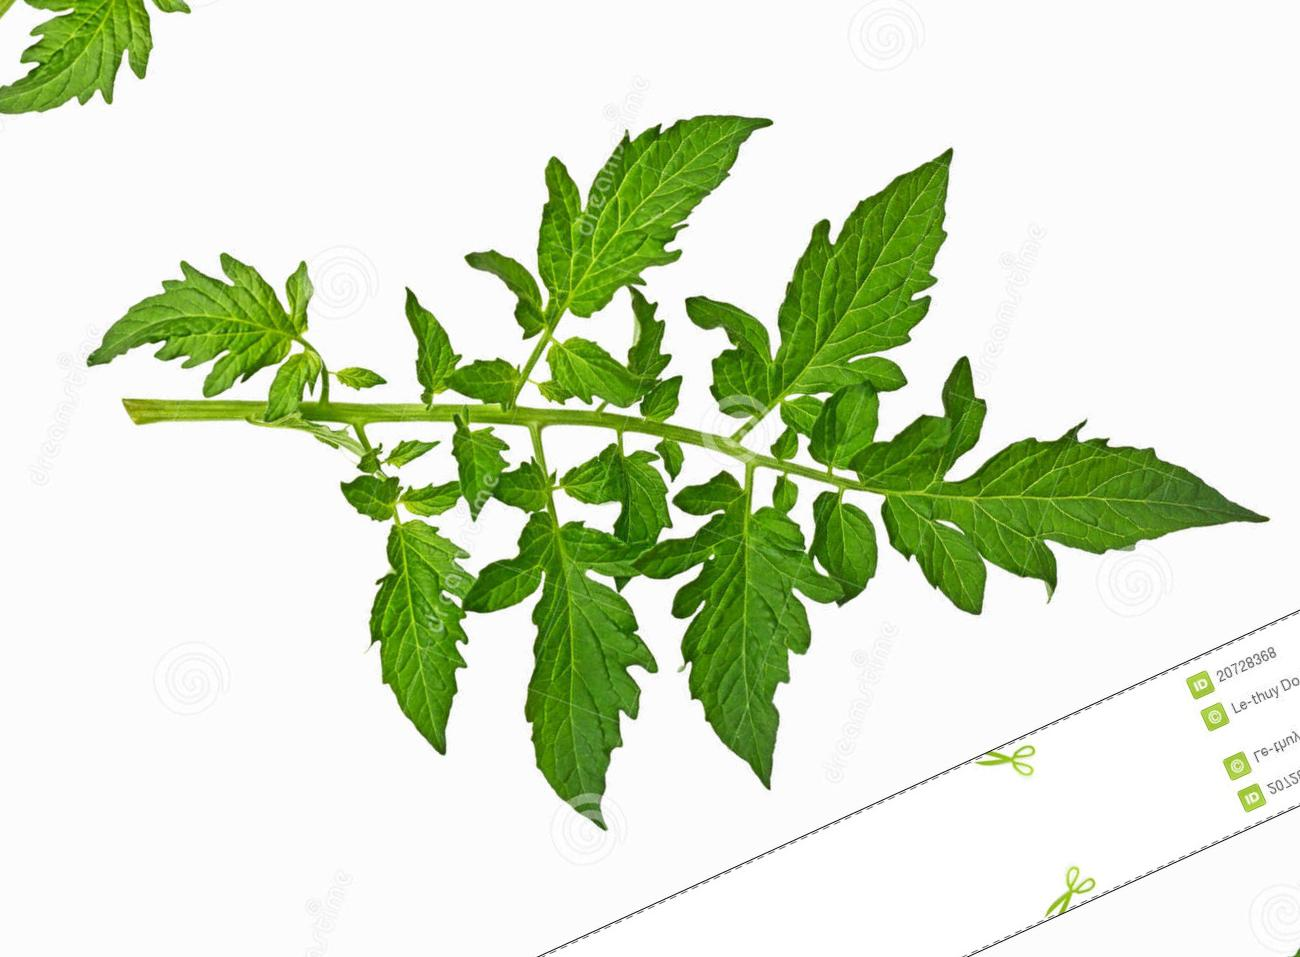Tomato leaf: (890, 327, 1300, 672), (411, 461, 746, 854), (449, 61, 859, 368), (598, 429, 909, 813), (685, 133, 1057, 446), (42, 174, 380, 480), (292, 472, 560, 764)
